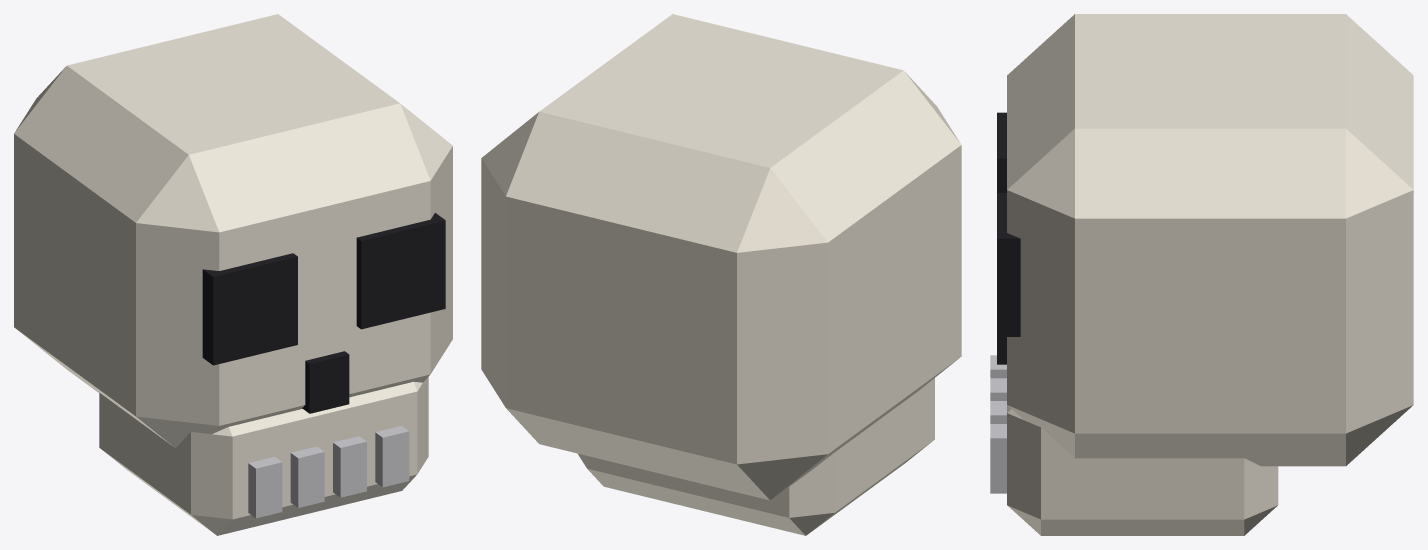
Rendered from Skull.fbx.
3 views of the same model, side by side, from view 1: azimuth 30°, elevation 25°; view 2: azimuth 150°, elevation 25°; view 3: azimuth 270°, elevation 25° (orthographic). The views are drawn at different scales.
Visible parts, largest first — view 1: Skull; view 2: Skull; view 3: Skull.
Boxes of the visible parts, x1,y1,x2,y2 form: Skull: [14, 14, 452, 535]; Skull: [481, 14, 961, 535]; Skull: [990, 14, 1413, 535].
Bounding box in the file's own units: 1.2 × 1.35 × 1.25.
Materials: 1 (1 with a texture image).
